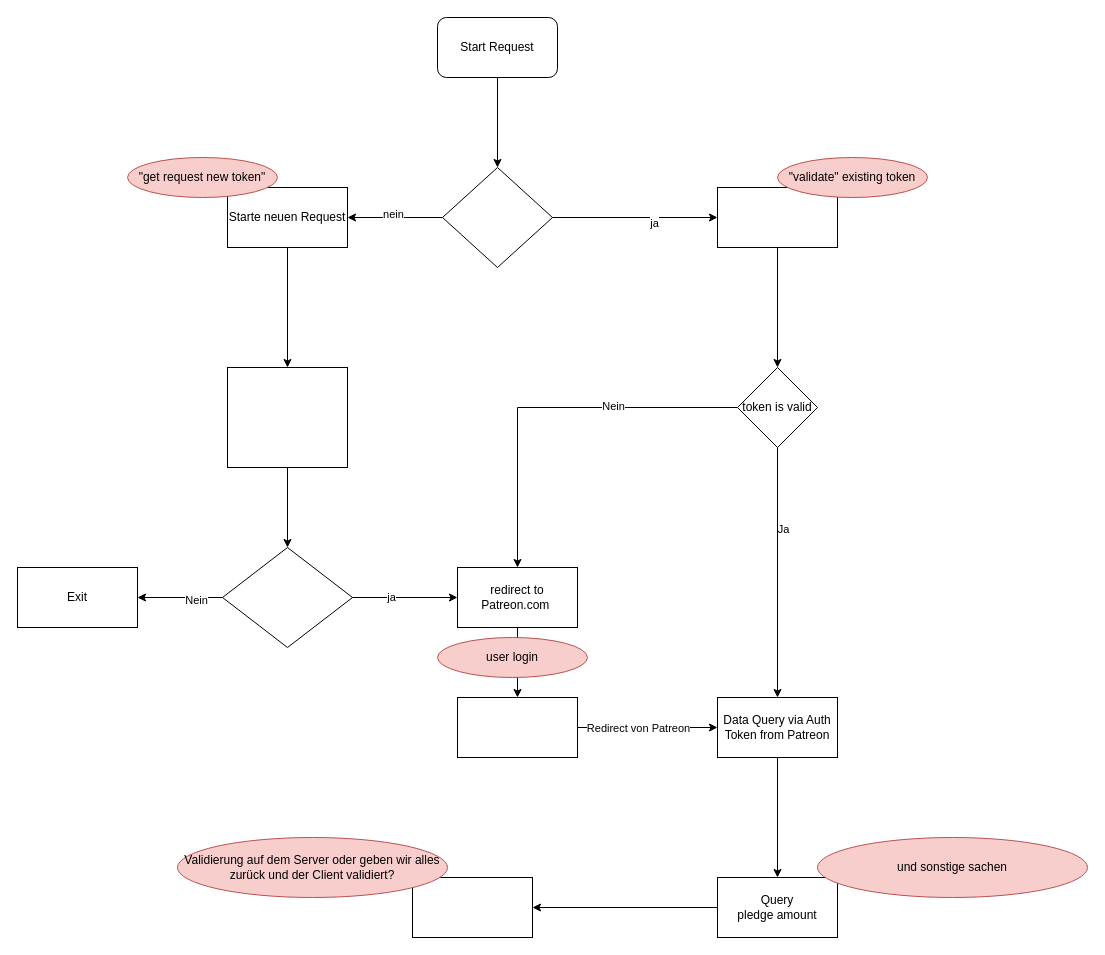
Image size: 1105x955. Some labels were removed from this diagram. Each missing label, with the box of its shape:
Consent to data processing?: (222, 546, 352, 648)
Consent to data sharing via Patreon: (456, 696, 578, 758)
landing page on our server:: (226, 366, 348, 468)
Starte Renew Request: (716, 186, 838, 248)
token already exists?: (442, 166, 552, 268)
validation of data and response: (412, 876, 532, 938)
